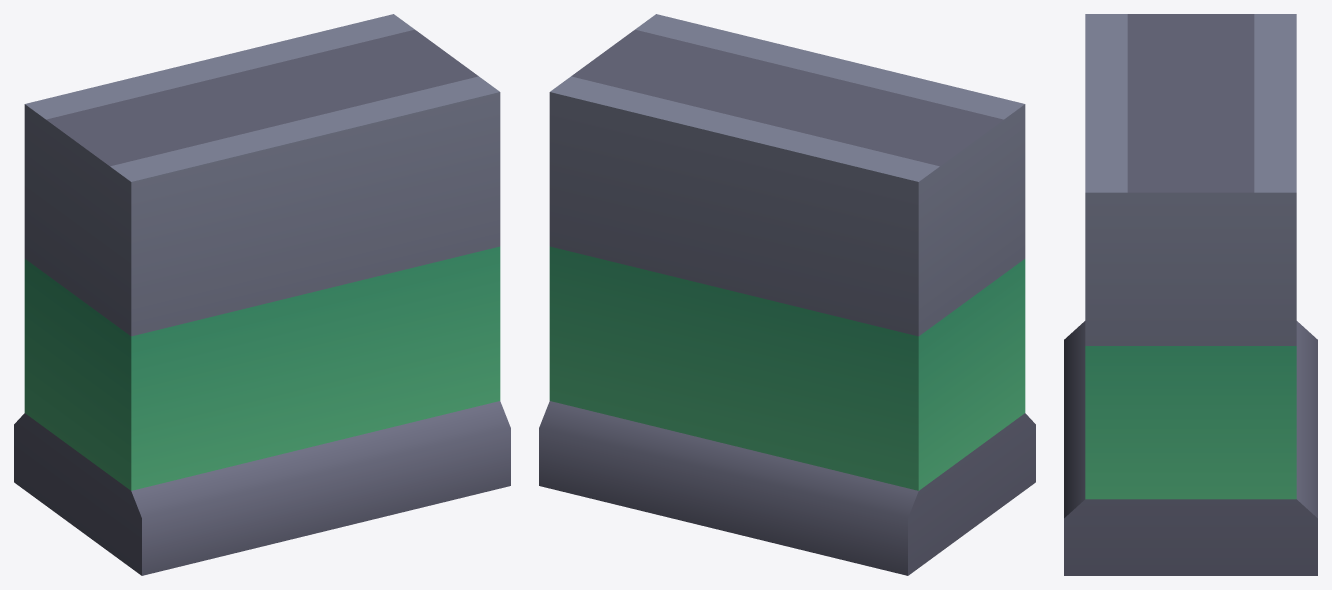
The model's file is wall.glb.
The picture shows the model from 3 angles, left to right: view 1: azimuth 30°, elevation 25°; view 2: azimuth 150°, elevation 25°; view 3: azimuth 270°, elevation 25°; orthographic projection.
Parts seen in each view (by area): view 1: wall; view 2: wall; view 3: wall.
Part boxes in pixels (left/top/right/bottom): wall: left=14, top=14, right=510, bottom=575; wall: left=539, top=14, right=1035, bottom=575; wall: left=1064, top=14, right=1317, bottom=575.
Size of the model in its own units: 1 by 1 by 0.6.
1 material, 1 textured.
